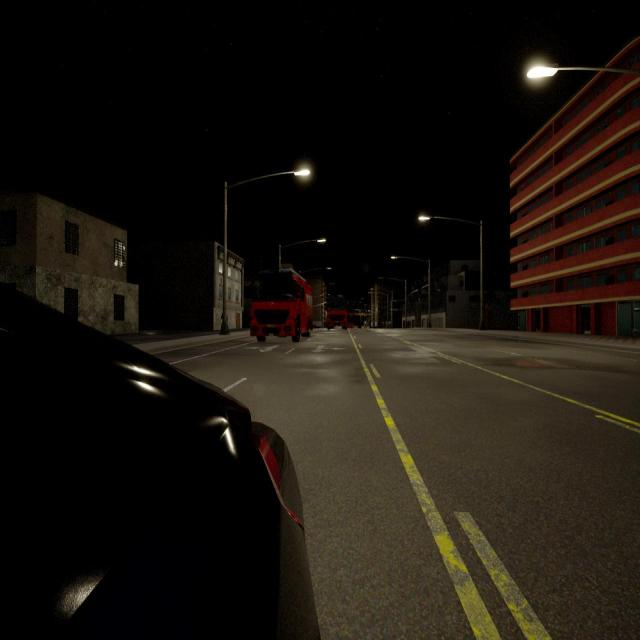Vehicle: (0, 293, 313, 638), (250, 274, 312, 341), (327, 308, 347, 329)
